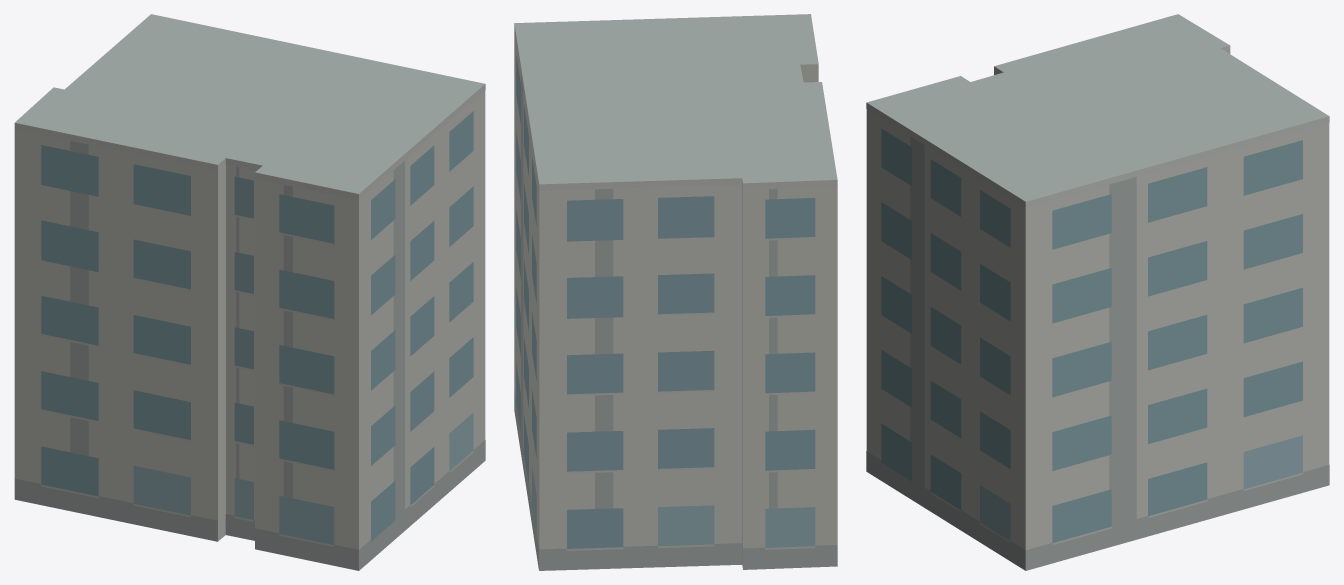
The model's file is survey-upis-32854377.glb.
The picture shows the model from 3 angles, left to right: view 1: azimuth 30°, elevation 25°; view 2: azimuth 150°, elevation 25°; view 3: azimuth 270°, elevation 25°; orthographic projection. The views are drawn at different scales.
Visible parts, largest first — view 1: survey-upis-32854377.tmp; view 2: survey-upis-32854377.tmp; view 3: survey-upis-32854377.tmp.
Boxes of the visible parts, box(x1,y1,x2,y2) form: survey-upis-32854377.tmp: box(14, 14, 485, 570); survey-upis-32854377.tmp: box(514, 14, 837, 570); survey-upis-32854377.tmp: box(866, 14, 1329, 570).
Bounding box in the file's own units: 15.5 × 14.2 × 16.15.
